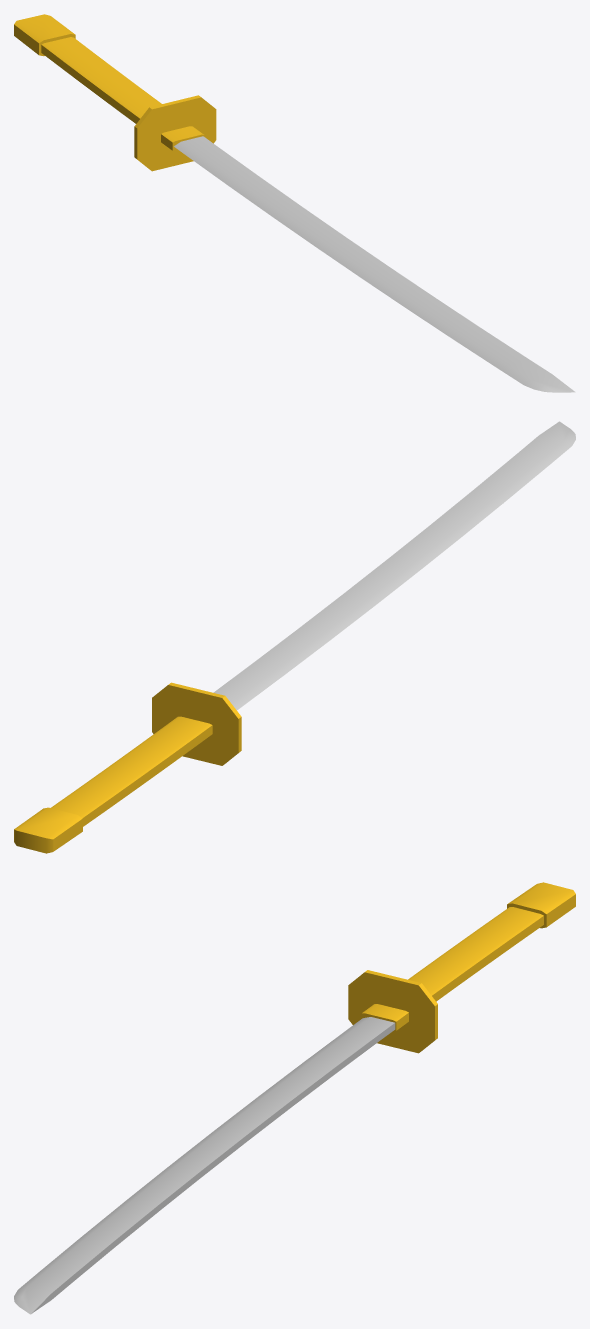
Rendered from Tachi.FBX.
3 renders of one model, top to bottom at view 1: azimuth 30°, elevation 25°; view 2: azimuth 150°, elevation 25°; view 3: azimuth 330°, elevation 25°, orthographic. The views are drawn at different scales.
Visible parts, largest first — view 1: weapon_Tachi; view 2: weapon_Tachi; view 3: weapon_Tachi.
Boxes of the visible parts, x1,y1,x2,y2 form: weapon_Tachi: [14, 14, 575, 392]; weapon_Tachi: [14, 421, 575, 853]; weapon_Tachi: [14, 882, 575, 1314].
Size of the model in its own units: 80 by 60 by 901.
